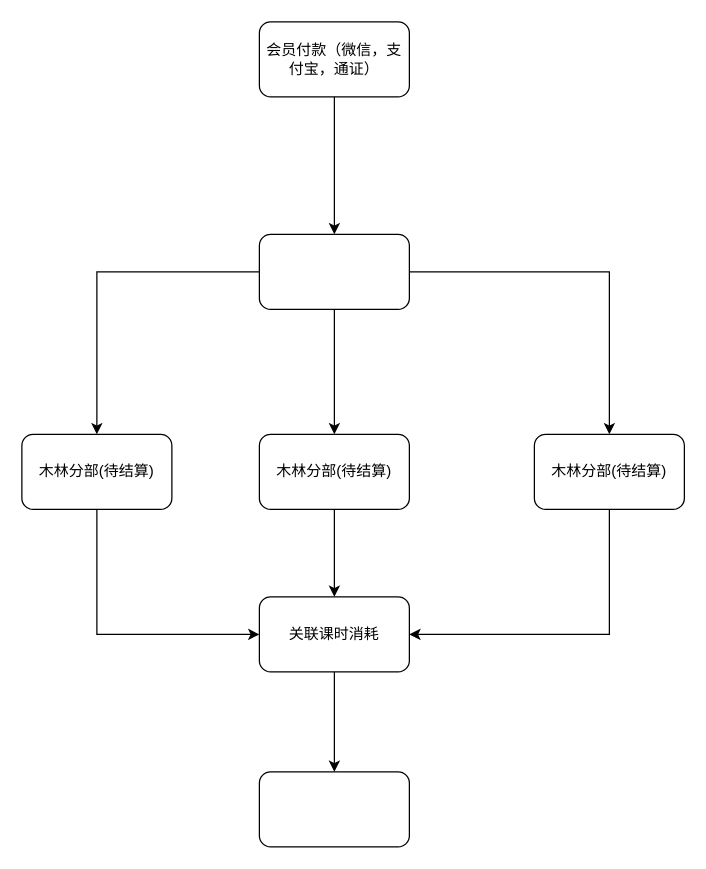
This 706x869 diagram has some shape labels left out. The centre of each missing label's shape, as x and y in pixels:
木林总部: the point at 333,271
转换成可提现: the point at 333,809
